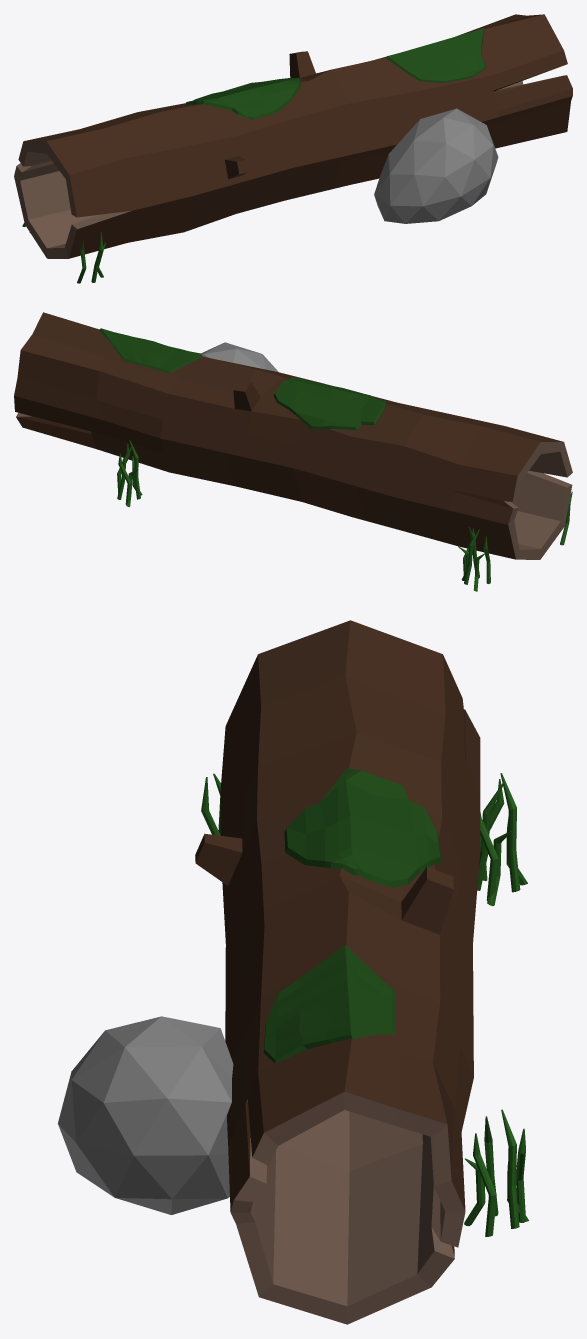
The model's file is fallenLog.fbx.
3 views of the same model, one above another, from view 1: azimuth 30°, elevation 25°; view 2: azimuth 150°, elevation 25°; view 3: azimuth 270°, elevation 25° (orthographic). The views are drawn at different scales.
Parts seen in each view (by area): view 1: Icosphere; view 2: Icosphere; view 3: Icosphere.
Part boxes in pixels (left/top/right/bottom): Icosphere: left=14, top=14, right=572, bottom=283; Icosphere: left=14, top=312, right=572, bottom=591; Icosphere: left=58, top=620, right=528, bottom=1324.
Bounding box in the file's own units: 750 × 189 × 307.
